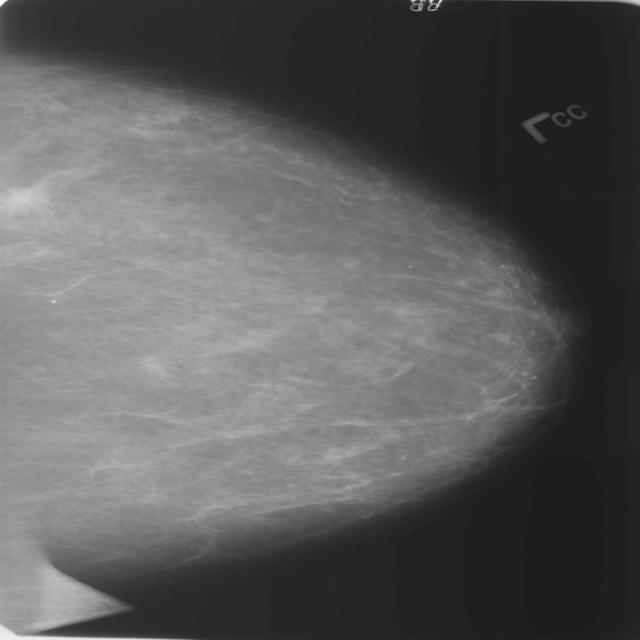tumour: (1, 175, 52, 212)
